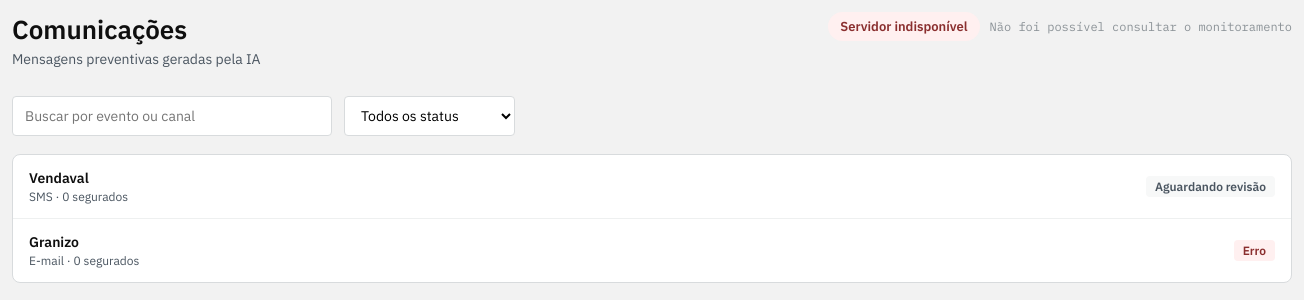
Test: CommunicationsPage › shows an empty state when no communication matches the filters
The width and height of the screenshot is (1304, 300).
Check: the text "Vendaval" is shown, box [29,169,89,187]
Type "nada-existe" into the field named "Buscar comunicações por evento ou canal" at (172, 116), box [12,96,332,136]
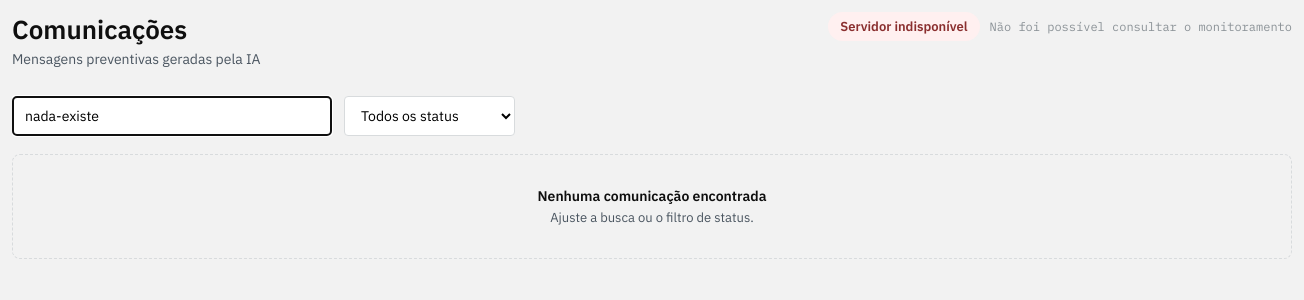
Check: the text "Nenhuma comunicação encontrada" is shown, box [538,187,766,205]
